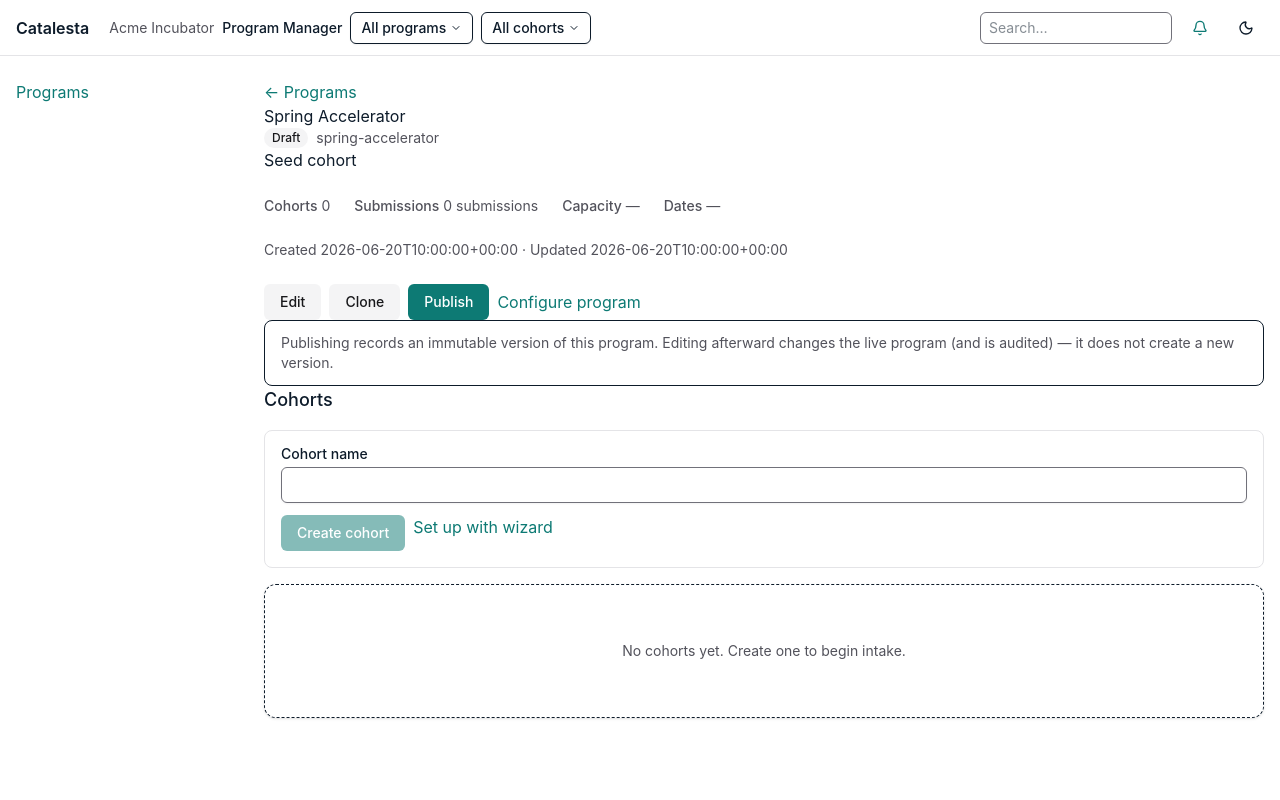
Test: clone → 403 shows a permission banner
Click the button "Clone" at (365,302), box [329,284,400,320]
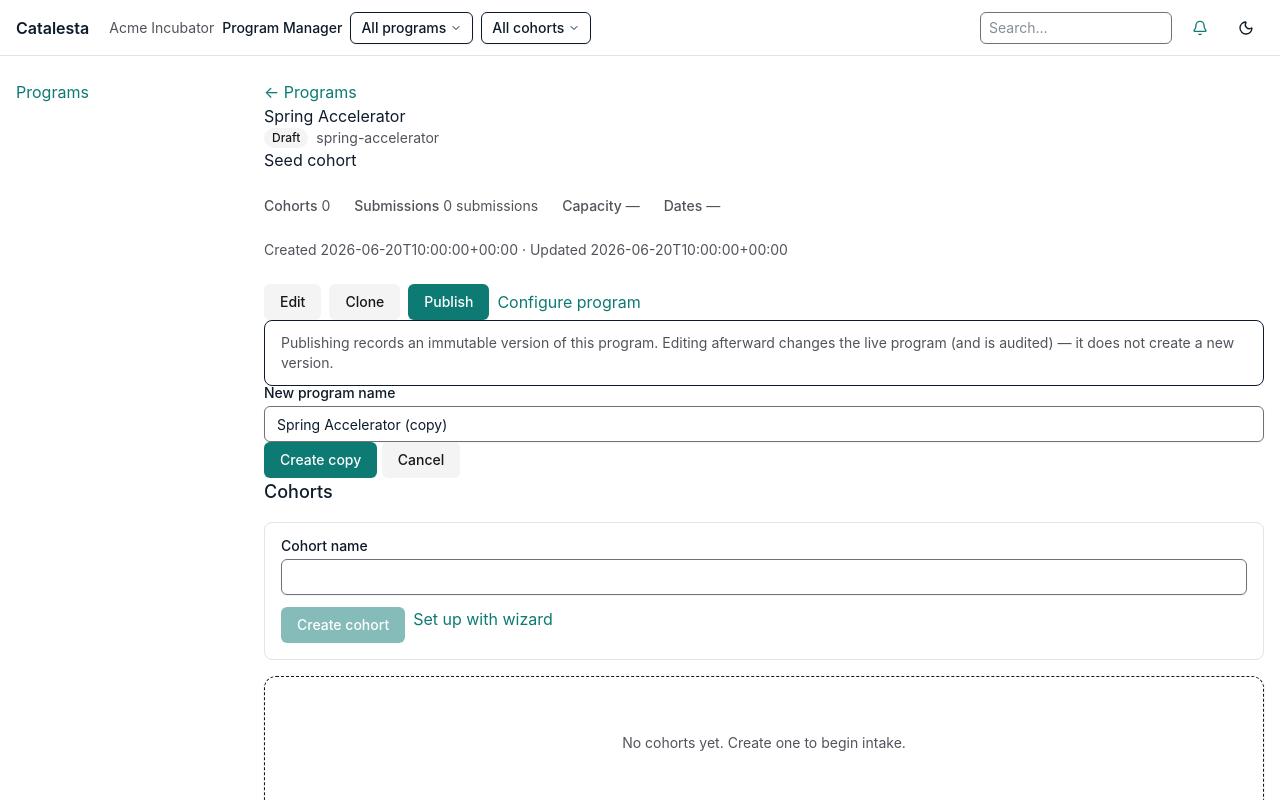
Replace the text in the field labelled "New program name" with "Copy" at (764,424), box [264,406,1264,442]
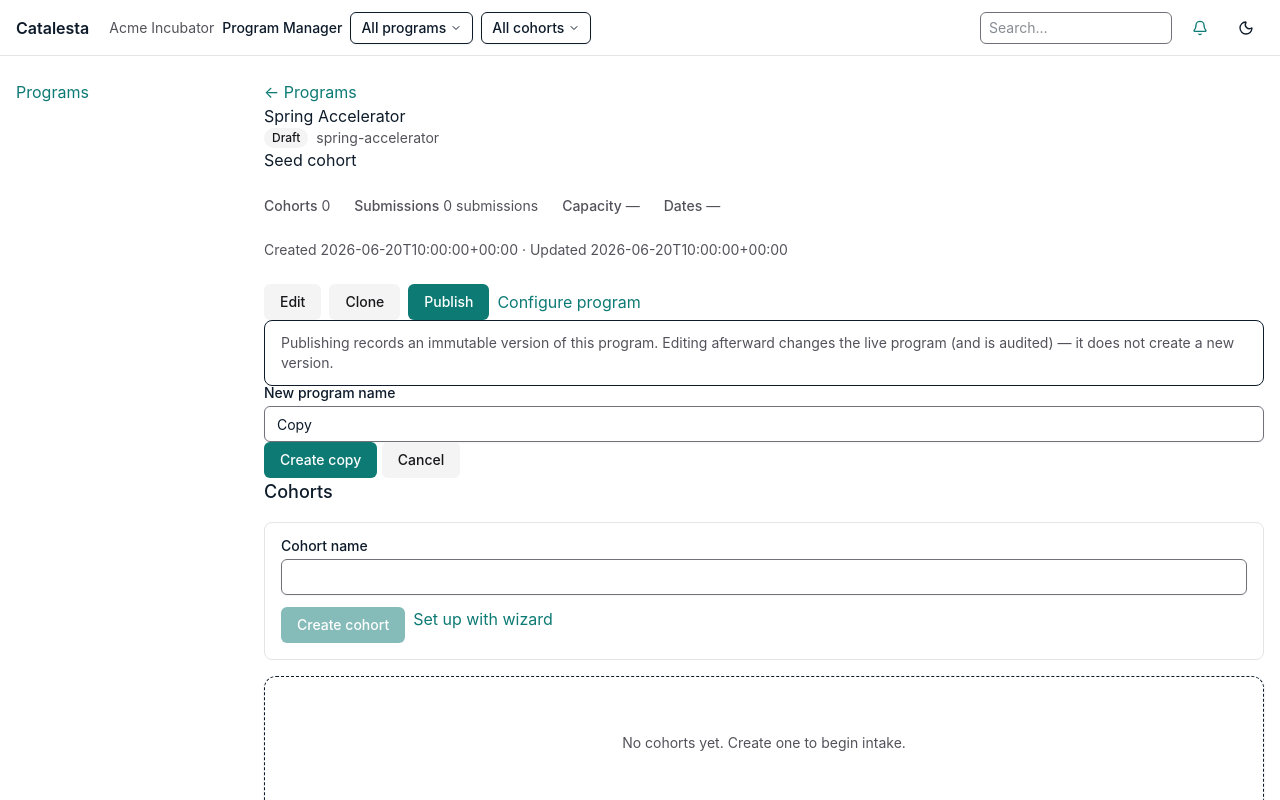
Click the button "Create copy" at (321,460), box [264,442,377,478]
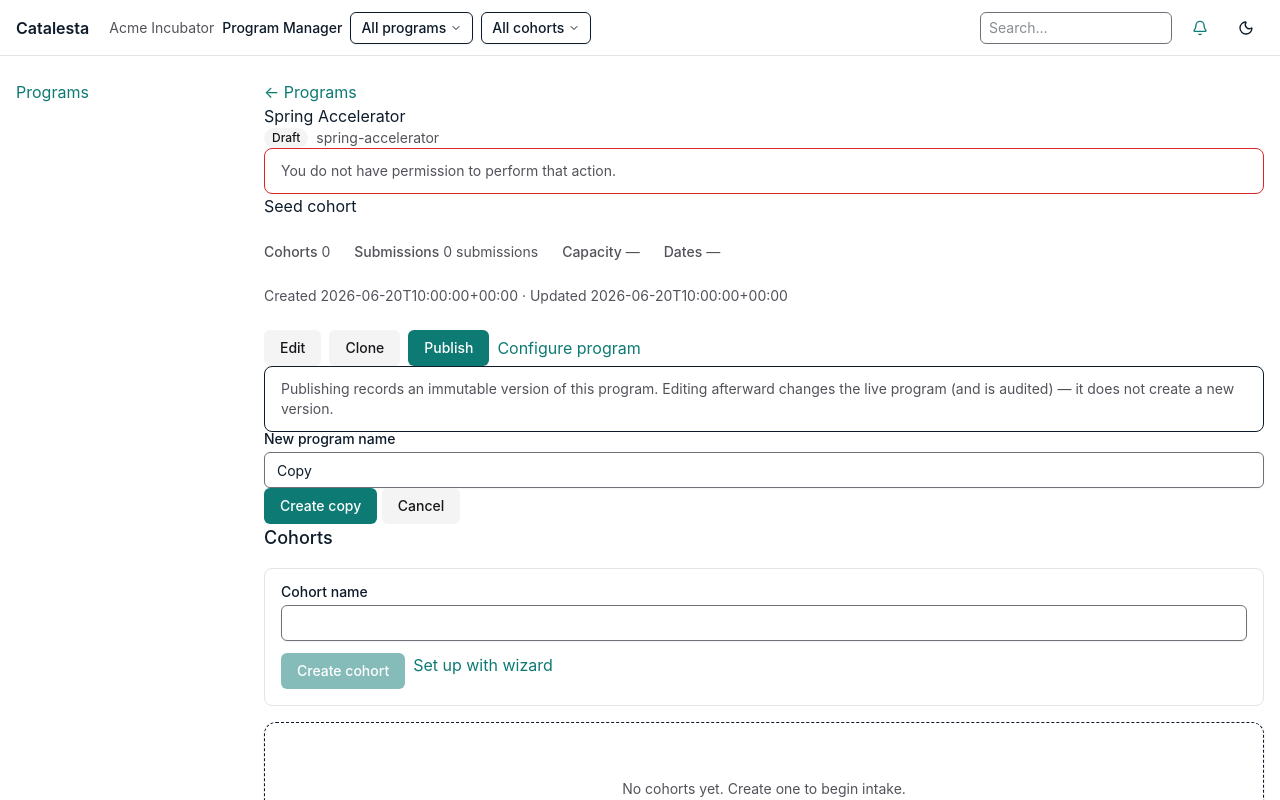
Result: the text "You do not have permission to perform that action." is shown at [281,162,616,179]
